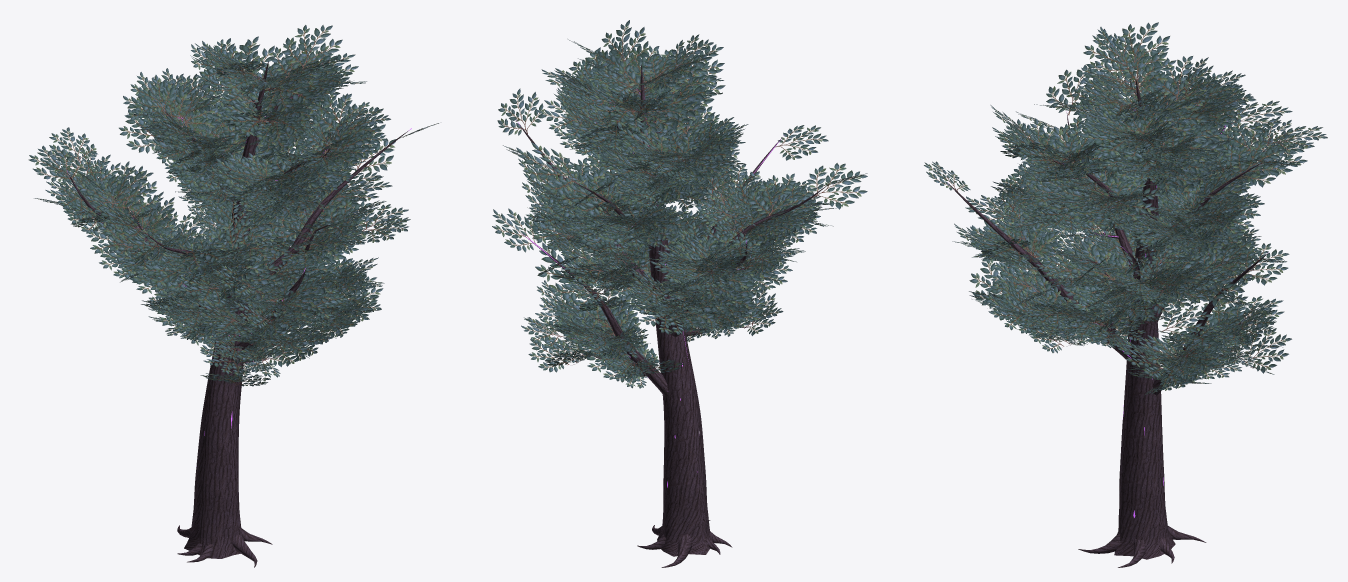
The model's file is corealm_magic_moonvein.glb.
3 views of the same model, side by side, from view 1: azimuth 30°, elevation 25°; view 2: azimuth 150°, elevation 25°; view 3: azimuth 270°, elevation 25° (orthographic). The views are drawn at different scales.
Parts seen in each view (by area): view 1: corealm_magic_moonvein; view 2: corealm_magic_moonvein; view 3: corealm_magic_moonvein.
Boxes of the visible parts, box(x1,y1,x2,y2) form: corealm_magic_moonvein: box(28, 25, 438, 567); corealm_magic_moonvein: box(492, 20, 867, 567); corealm_magic_moonvein: box(924, 22, 1327, 567).
Size of the model in its own units: 8.89 by 11.39 by 8.32.
3 materials, 2 textured.
